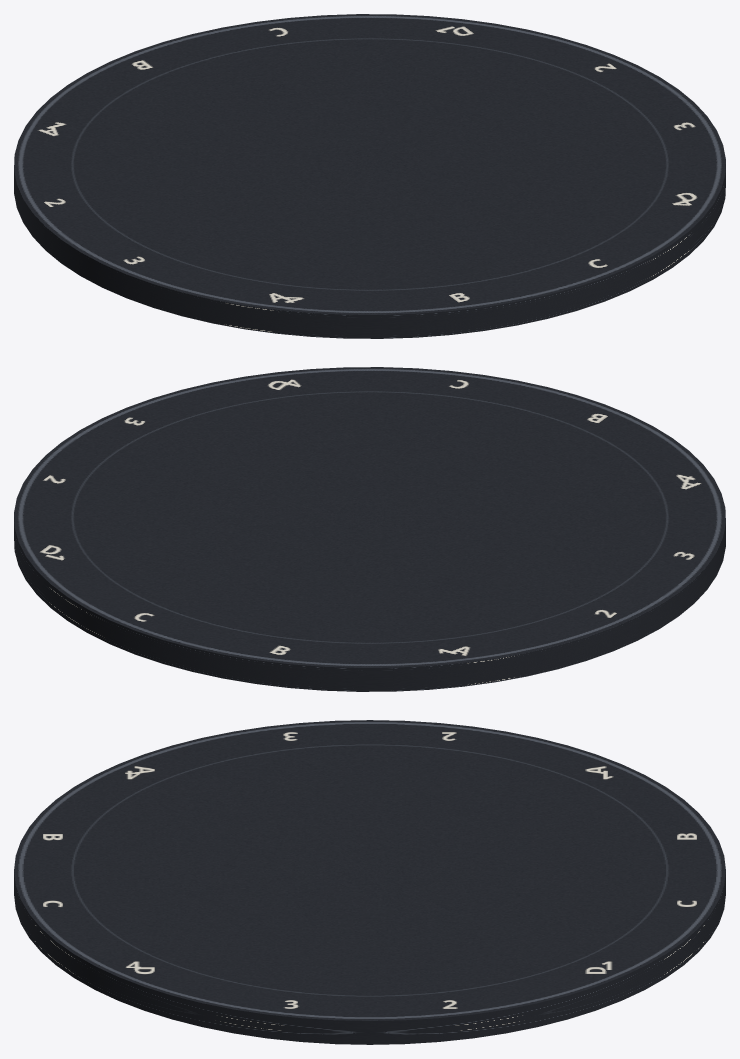
File: turntable.glb
3 renders of one model, top to bottom at view 1: azimuth 30°, elevation 25°; view 2: azimuth 150°, elevation 25°; view 3: azimuth 270°, elevation 25°, orthographic.
Visible parts, largest first — view 1: turntable; view 2: turntable; view 3: turntable.
Boxes of the visible parts, x1,y1,x2,y2 form: turntable: (14,14,725,338); turntable: (14,367,725,691); turntable: (14,720,725,1044).
Size of the model in its own units: 0.27 by 0.01 by 0.27.
1 material, 1 textured.
